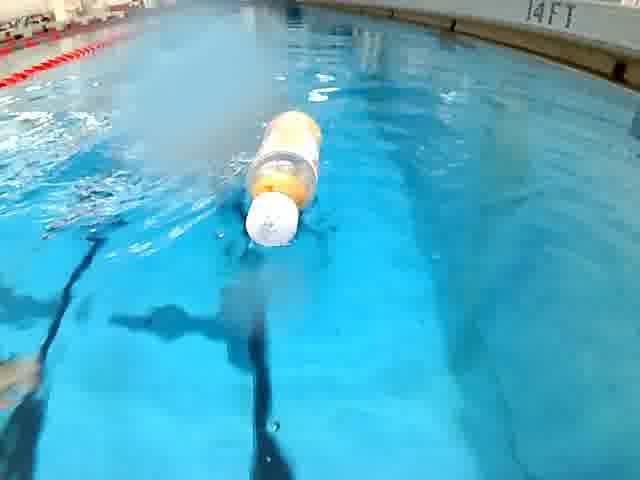Bottle: (239, 109, 325, 247)
